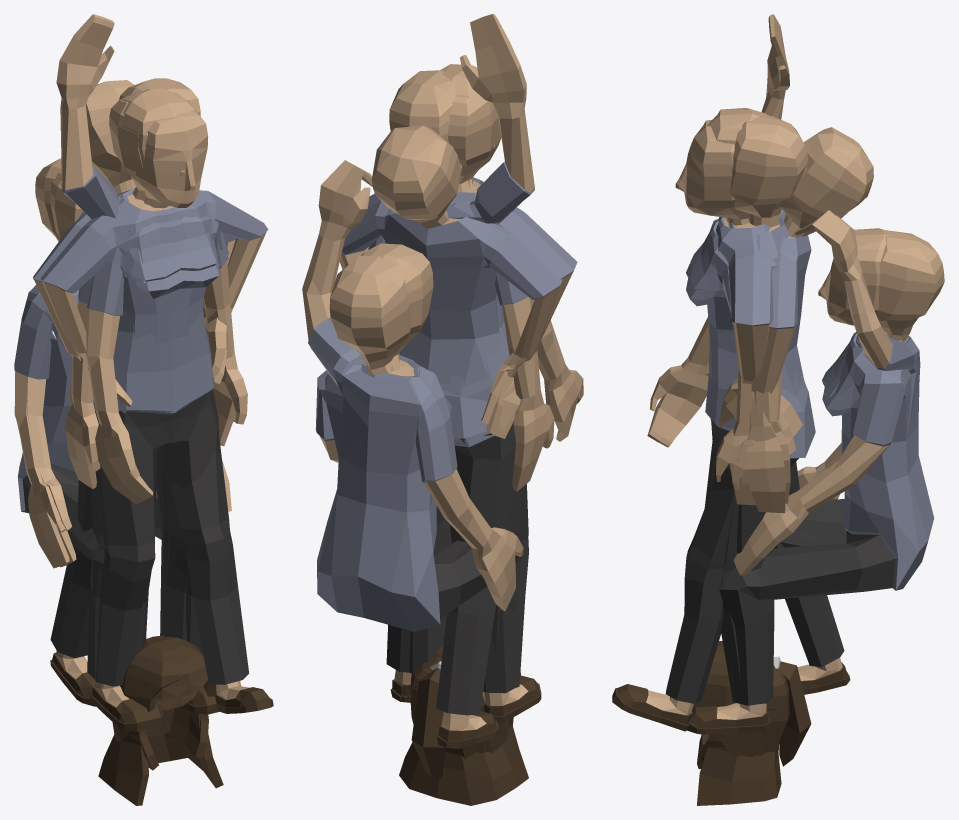
File: female.glb
3 views of the same model, side by side, from view 1: azimuth 30°, elevation 25°; view 2: azimuth 150°, elevation 25°; view 3: azimuth 270°, elevation 25° (orthographic). The views are drawn at different scales.
Parts seen in each view (by area): view 1: Walking, Standing_Hips, LookingUp, Standing, Standing_Waving, Sitting_Cheering, Sitting, Hair_4, Hair_2, Hair_1, Hair_3; view 2: Sitting_Cheering, LookingUp, Sitting, Standing_Waving, Walking, Standing, Standing_Hips, Hair_2, Hair_4, Hair_3; view 3: Walking, Sitting, Sitting_Cheering, Standing_Waving, LookingUp, Standing_Hips, Hair_2, Hair_4, Standing, Hair_3, Hair_1.
Part boxes in pixels (x1,y1,x2,y2): Walking: (50,110,273,713); Standing_Hips: (40,88,268,724); LookingUp: (33,80,236,729); Standing: (65,92,247,725); Standing_Waving: (56,14,228,731); Sitting_Cheering: (14,158,219,728); Sitting: (14,172,231,725); Hair_4: (120,635,216,711); Hair_2: (98,685,223,805); Hair_1: (129,707,208,770); Hair_3: (112,690,198,742); Sitting_Cheering: (302,160,523,711); LookingUp: (339,125,562,723); Sitting: (315,243,517,699); Standing_Waving: (368,14,541,723); Walking: (384,127,583,748); Standing: (385,84,554,703); Standing_Hips: (366,64,577,704); Hair_2: (399,656,528,805); Hair_4: (411,644,520,781); Hair_3: (410,695,509,758); Walking: (612,120,850,731); Sitting: (692,228,934,724); Sitting_Cheering: (692,210,944,723); Standing_Waving: (687,14,807,734); LookingUp: (704,127,873,723); Standing_Hips: (690,108,802,448); Hair_2: (697,665,788,805); Hair_4: (692,641,811,766); Standing: (716,112,769,505); Hair_3: (718,703,789,756); Hair_1: (701,676,789,767).
Size of the model in its own units: 1.44 by 4.71 by 1.89.
